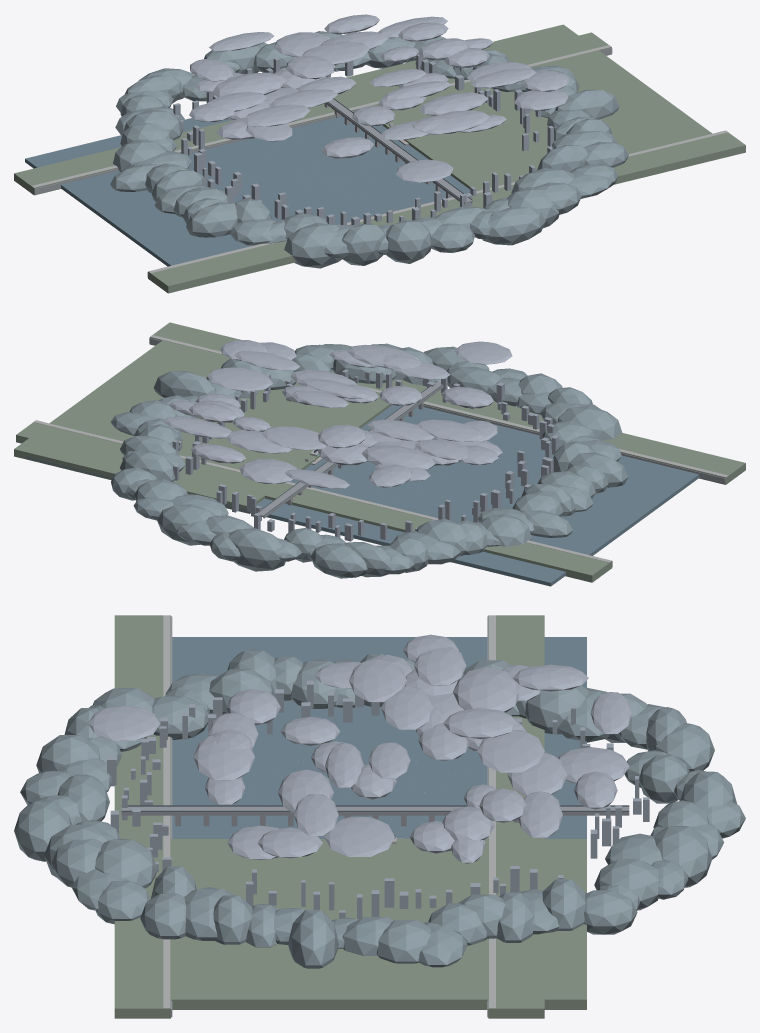
File: river.glb
3 renders of one model, top to bottom at view 1: azimuth 30°, elevation 25°; view 2: azimuth 150°, elevation 25°; view 3: azimuth 270°, elevation 25°, orthographic. The views are drawn at different scales.
Parts seen in each view (by area): view 1: River_WaterVolume, East_Land, Bank_Terrain, Bank_Terrain.001, Hills.051, Hills.042, Hills.046, Hills.037, Hills.044, Hills.064, River_Cloud.031, Hills.048 (+63 smaller); view 2: River_WaterVolume, East_Land, Bank_Terrain.001, Bank_Terrain, Hills.017, Hills.021, Hills.064, Hills.042, River_Cloud.031, Hills.013, Bank_Path.001, River_Cloud.017 (+68 smaller); view 3: East_Land, River_WaterVolume, Bank_Terrain, Bank_Terrain.001, Hills.064, River_Cloud.031, Bridge_Deck, Hills.051, Hills.013, River_Cloud.017, River_Cloud.001, Hills.055 (+77 smaller).
Boxes of the visible parts, x1,y1,x2,y2 form: River_WaterVolume: (25,116,470,266); East_Land: (342,24,711,191); Bank_Terrain: (148,132,745,293); Bank_Terrain.001: (14,32,611,195); Hills.051: (482,206,545,245); Hills.042: (284,222,341,268); Hills.046: (386,219,431,263); Hills.037: (186,202,237,237); Hills.044: (341,224,385,265); Hills.064: (555,89,619,119); River_Cloud.031: (212,72,286,96); Hills.048: (431,223,474,252); River_WaterVolume: (27,405,699,586); East_Land: (14,340,392,513); Bank_Terrain.001: (16,422,612,582); Bank_Terrain: (149,322,745,484); Hills.017: (228,528,285,571); Hills.021: (310,543,367,578); Hills.064: (153,371,216,397); Hills.042: (558,405,622,440); River_Cloud.031: (361,445,435,469); Hills.013: (157,504,216,545); Bank_Path.001: (33,420,611,562); River_Cloud.017: (207,367,272,391); East_Land: (170,839,586,1009); River_WaterVolume: (172,637,586,838); Bank_Terrain: (114,615,170,1018); Bank_Terrain.001: (488,615,544,1018); Hills.064: (288,910,338,968); River_Cloud.031: (453,667,519,712); Bridge_Deck: (121,806,629,813); Hills.051: (14,800,72,861); Hills.013: (653,826,712,887); River_Cloud.017: (324,817,394,856); River_Cloud.001: (477,730,544,772); Hills.055: (95,838,157,888).
Size of the model in its own units: 660 by 88.28 by 519.
